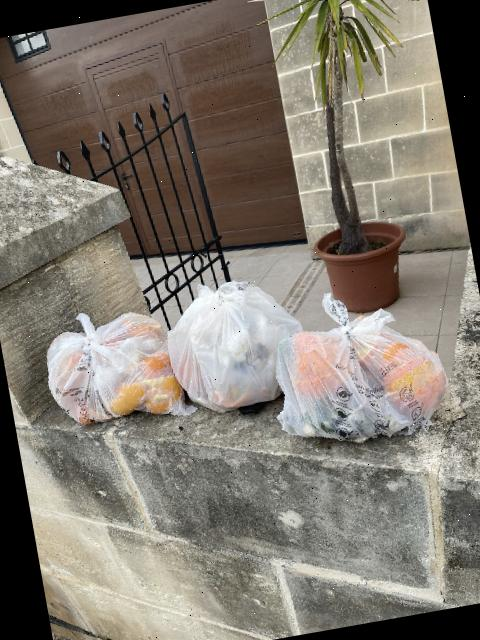Organic -White-: (276, 293, 447, 442), (167, 280, 302, 412), (47, 312, 195, 423), (221, 339, 224, 346)
